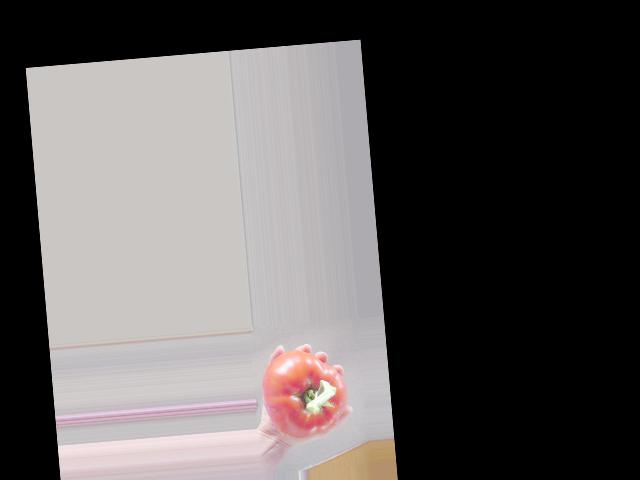tomato: (259, 346, 350, 440)
